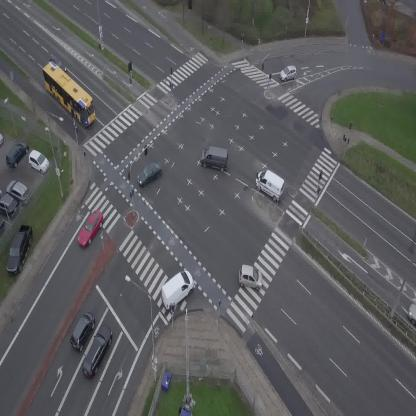bus: (34, 59, 105, 129)
car: (77, 323, 117, 381), (65, 309, 100, 353), (74, 208, 108, 249), (133, 159, 166, 187), (236, 264, 265, 290), (278, 64, 298, 82), (50, 55, 70, 73), (408, 303, 416, 326)
lorry: (153, 266, 200, 312), (251, 166, 291, 203), (198, 144, 232, 173)
